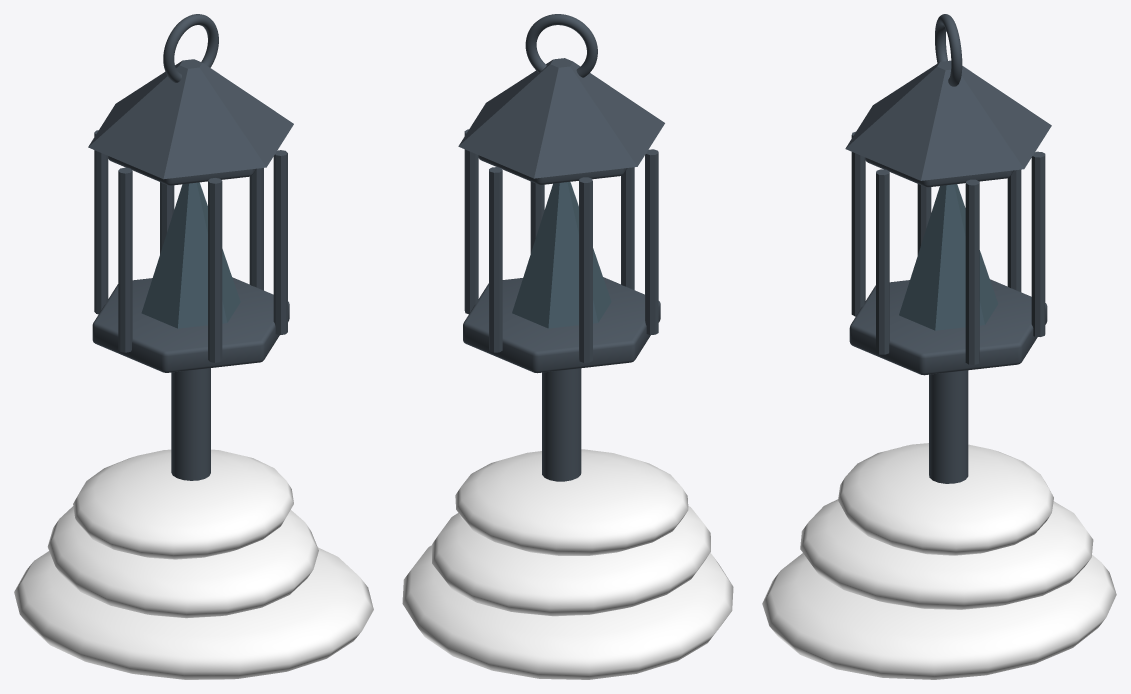
The model's file is aurora-beacon-dormant.glb.
The picture shows the model from 3 angles, left to right: view 1: azimuth 30°, elevation 25°; view 2: azimuth 150°, elevation 25°; view 3: azimuth 270°, elevation 25°; orthographic projection.
Visible parts, largest first — view 1: titan.beacon.stone.0, titan.beacon.stone.2, titan.beacon.stone.1, titan.beacon.roof, titan.beacon.cage-base, titan.beacon.crystal, titan.beacon.pole, titan.beacon.bar.4, titan.beacon.bar.3, titan.beacon.bar.5, titan.beacon.bar.2, titan.beacon.bar.0 (+3 smaller); view 2: titan.beacon.stone.0, titan.beacon.stone.2, titan.beacon.stone.1, titan.beacon.roof, titan.beacon.cage-base, titan.beacon.crystal, titan.beacon.pole, titan.beacon.bar.1, titan.beacon.bar.2, titan.beacon.bar.3, titan.beacon.bar.0, titan.beacon.handle (+3 smaller); view 3: titan.beacon.stone.0, titan.beacon.stone.1, titan.beacon.stone.2, titan.beacon.roof, titan.beacon.cage-base, titan.beacon.crystal, titan.beacon.pole, titan.beacon.bar.0, titan.beacon.bar.1, titan.beacon.bar.5, titan.beacon.bar.4, titan.beacon.bar.2 (+3 smaller).
Boxes of the visible parts, x1=… form: titan.beacon.stone.0: x1=14, y1=547, x2=373, y2=679; titan.beacon.stone.2: x1=73, y1=449, x2=293, y2=559; titan.beacon.stone.1: x1=47, y1=506, x2=318, y2=618; titan.beacon.roof: x1=88, y1=59, x2=293, y2=179; titan.beacon.cage-base: x1=92, y1=277, x2=289, y2=372; titan.beacon.crystal: x1=141, y1=182, x2=240, y2=328; titan.beacon.pole: x1=171, y1=368, x2=210, y2=480; titan.beacon.bar.4: x1=208, y1=178, x2=222, y2=362; titan.beacon.bar.3: x1=118, y1=167, x2=132, y2=352; titan.beacon.bar.5: x1=273, y1=150, x2=287, y2=334; titan.beacon.bar.2: x1=94, y1=130, x2=108, y2=314; titan.beacon.bar.0: x1=249, y1=168, x2=263, y2=290; titan.beacon.stone.0: x1=402, y1=545, x2=733, y2=679; titan.beacon.stone.2: x1=455, y1=449, x2=688, y2=555; titan.beacon.stone.1: x1=432, y1=506, x2=710, y2=616; titan.beacon.roof: x1=458, y1=58, x2=664, y2=178; titan.beacon.cage-base: x1=463, y1=277, x2=660, y2=373; titan.beacon.crystal: x1=512, y1=182, x2=611, y2=328; titan.beacon.pole: x1=542, y1=368, x2=581, y2=481; titan.beacon.bar.1: x1=489, y1=167, x2=502, y2=352; titan.beacon.bar.2: x1=579, y1=177, x2=592, y2=362; titan.beacon.bar.3: x1=645, y1=149, x2=658, y2=334; titan.beacon.bar.0: x1=464, y1=129, x2=478, y2=314; titan.beacon.handle: x1=525, y1=14, x2=597, y2=77; titan.beacon.stone.0: x1=762, y1=553, x2=1116, y2=679; titan.beacon.stone.1: x1=800, y1=499, x2=1093, y2=609; titan.beacon.stone.2: x1=838, y1=443, x2=1053, y2=555; titan.beacon.roof: x1=845, y1=60, x2=1051, y2=180; titan.beacon.cage-base: x1=849, y1=279, x2=1047, y2=375; titan.beacon.crystal: x1=899, y1=184, x2=998, y2=330; titan.beacon.pole: x1=929, y1=370, x2=968, y2=483; titan.beacon.bar.0: x1=965, y1=179, x2=979, y2=364; titan.beacon.bar.1: x1=1031, y1=151, x2=1045, y2=336; titan.beacon.bar.5: x1=876, y1=169, x2=889, y2=354; titan.beacon.bar.4: x1=851, y1=131, x2=865, y2=316; titan.beacon.bar.2: x1=1007, y1=169, x2=1021, y2=291.
Size of the model in its own units: 0.8695 by 1.73 by 0.8943.
